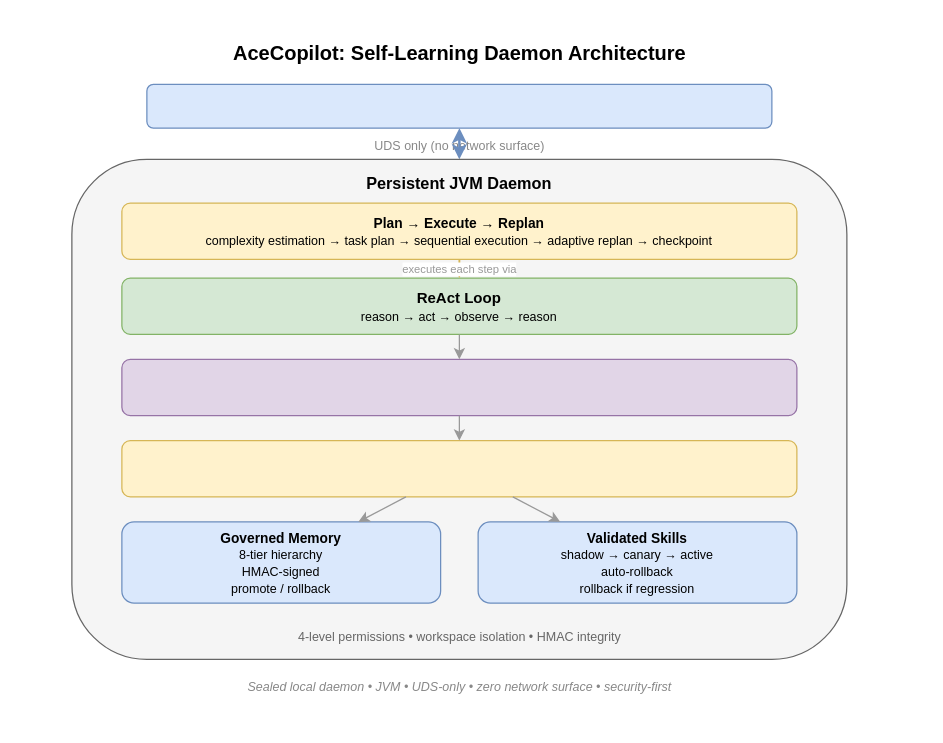
This 943x743 diagram has some shape labels left out. Here are the shapes that lost their labels. From the top down, the box of each, then its label:
(146, 83, 772, 128): CLI / REPL
(121, 358, 797, 416): Behavior Detectors errors • recoveries • patterns • user corrections
(121, 439, 797, 497): Self-Learning Engine score → promote → inject → validate
